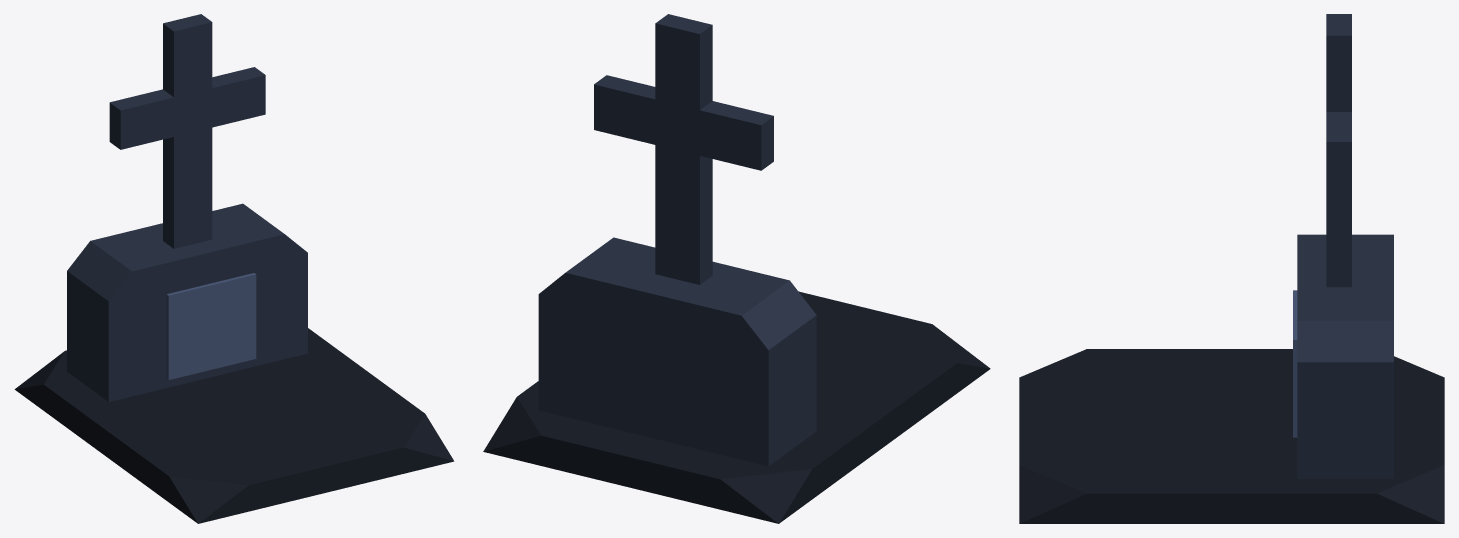
Rendered from grave5.FBX.
3 renders of one model, left to right at view 1: azimuth 30°, elevation 25°; view 2: azimuth 150°, elevation 25°; view 3: azimuth 270°, elevation 25°, orthographic. The views are drawn at different scales.
Parts seen in each view (by area): view 1: grave5; view 2: grave5; view 3: grave5.
Boxes of the visible parts, x1,y1,x2,y2 form: grave5: [14, 14, 454, 523]; grave5: [483, 14, 990, 523]; grave5: [1019, 14, 1444, 523].
Size of the model in its own units: 13.31 by 18.31 by 16.53.
